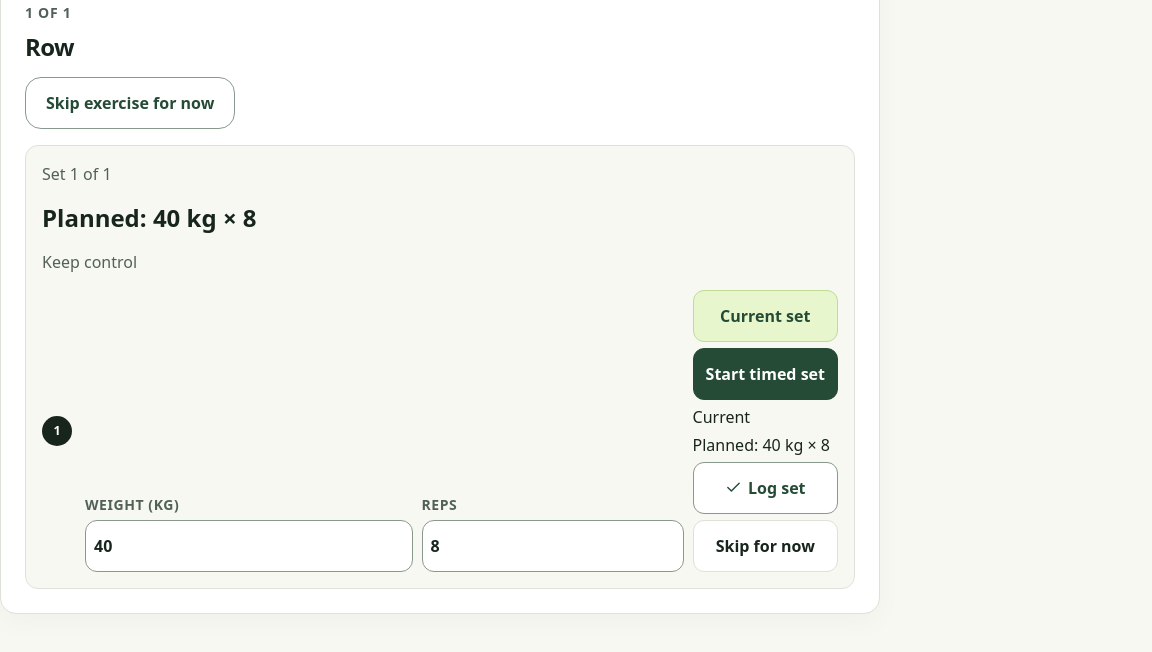
Complete ends timing without logging; confirmation edits and retry durably save once before rest
(page scrolled)
Replace the text in the number field named "Row set 1 weight (kg)" with "42.5". click: (249, 546)
box: [85,520,412,572]
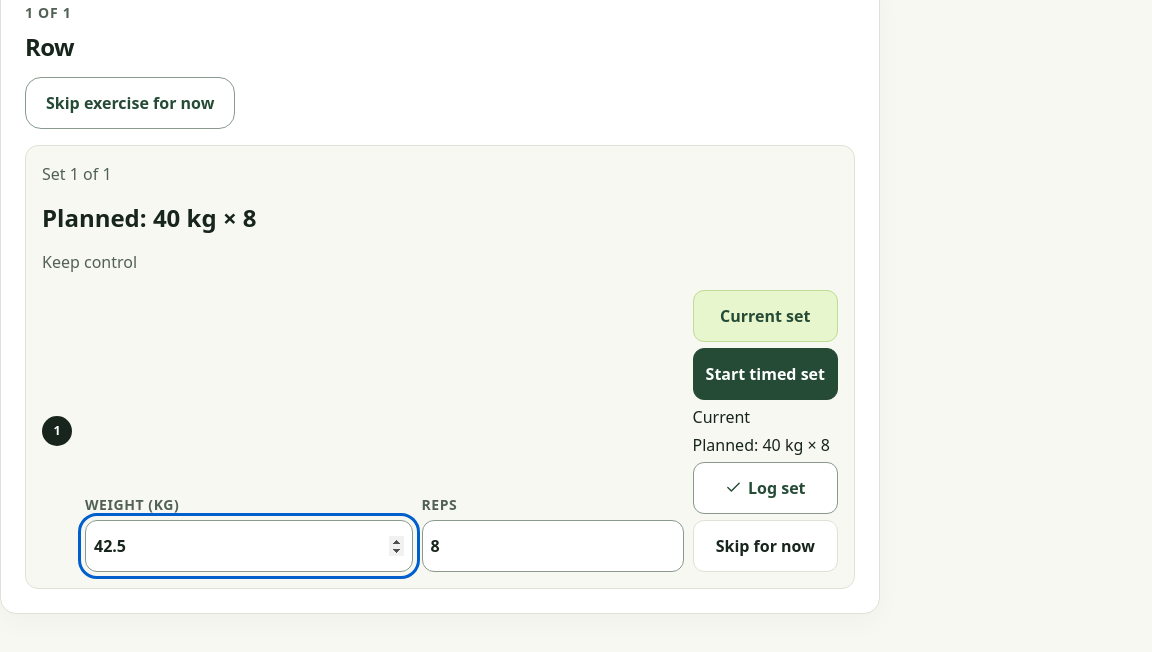
Click the button with aria-label "Start Row set 1". click: (765, 374)
box: [693,348,838,400]
(page scrolled)
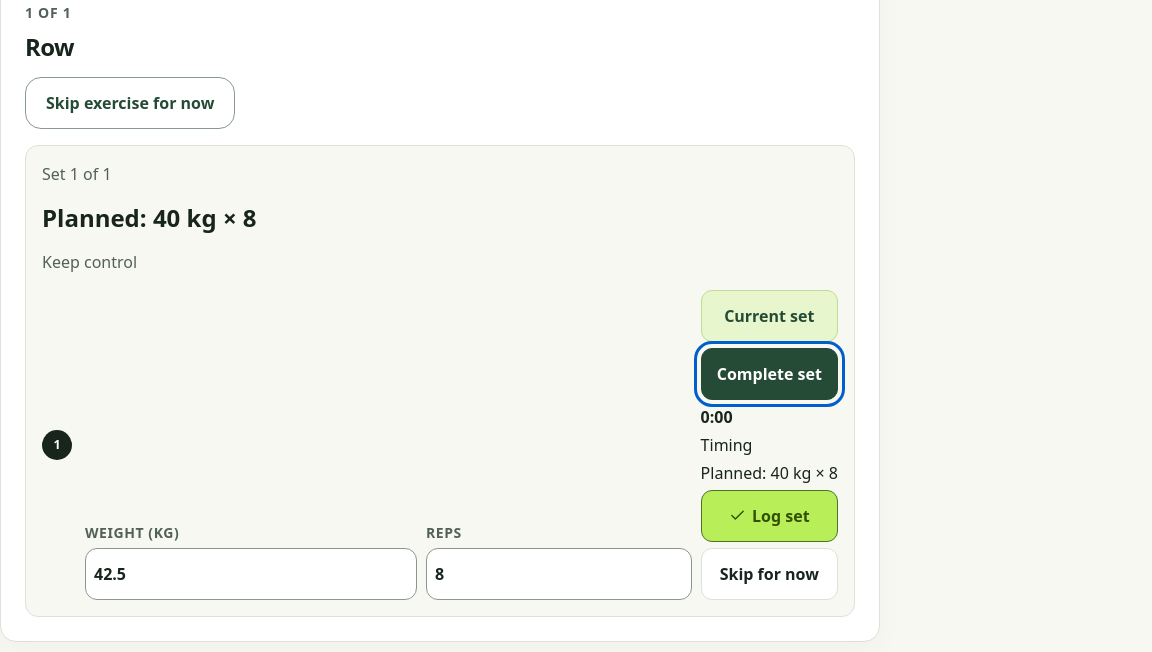
Click the button with aria-label "Complete Row set 1". click: (769, 374)
box: [701,348,838,400]
(page scrolled)
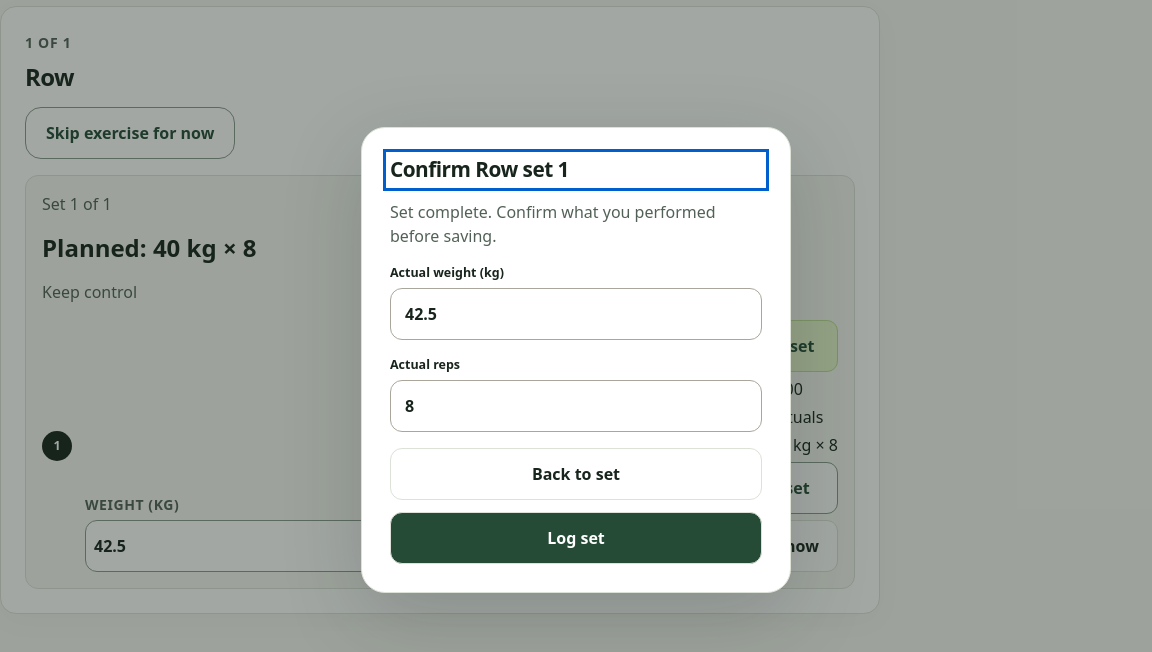
Check: the field labelled "Actual weight (kg)" holds "42.5", box [390,288,762,340]
Check: the text "Rest timer" is gone
Replace the text in the number field labelled "Actual reps" with "7". click: (576, 406)
box: [390,380,762,432]
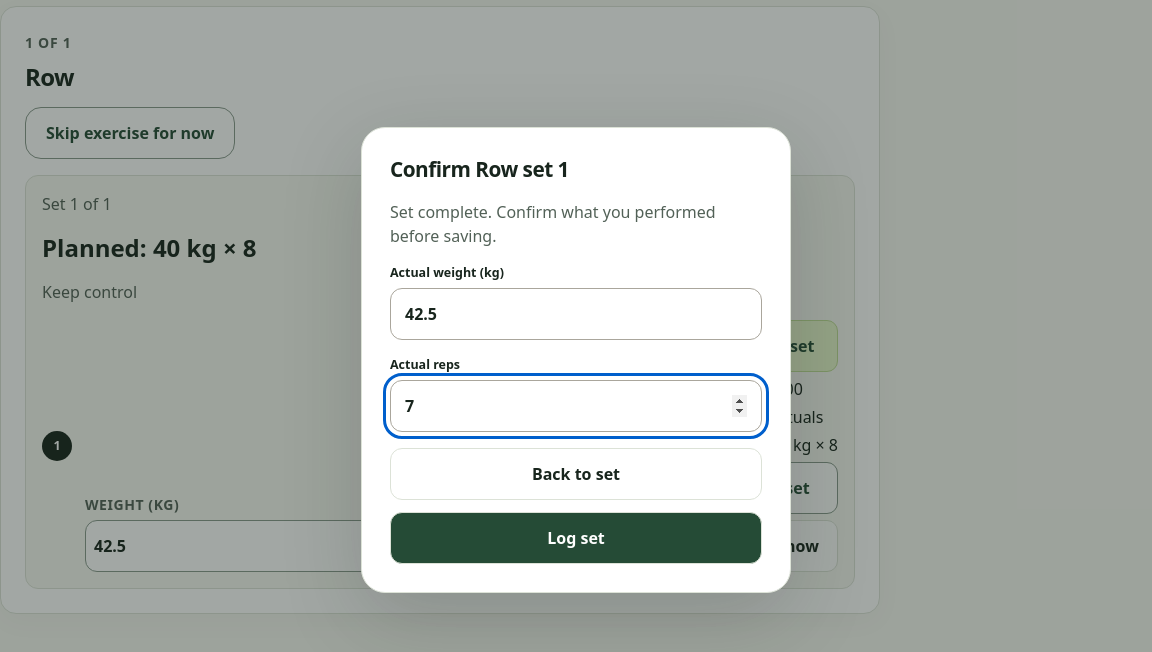
Click the button "Log set". click: (576, 538)
box: [390,512,762,564]
(page scrolled)
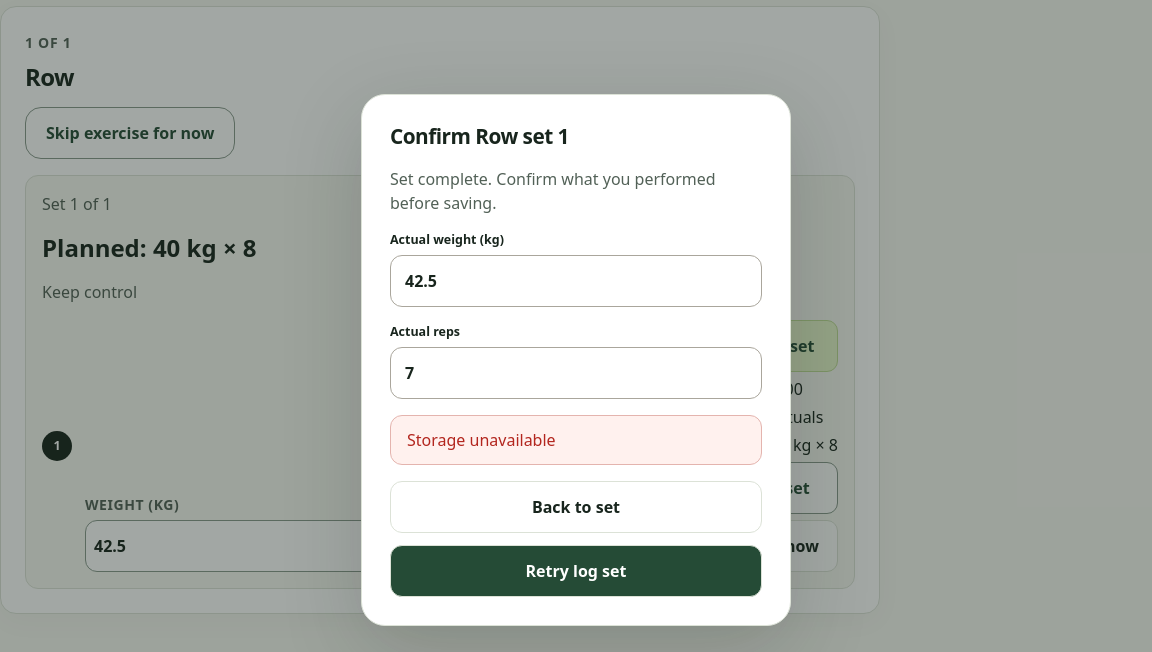
Check: the message reads "Storage unavailable", box [407,428,556,450]
Double-click the button "Retry log set" at (576, 570), box [390,544,762,596]
(page scrolled)
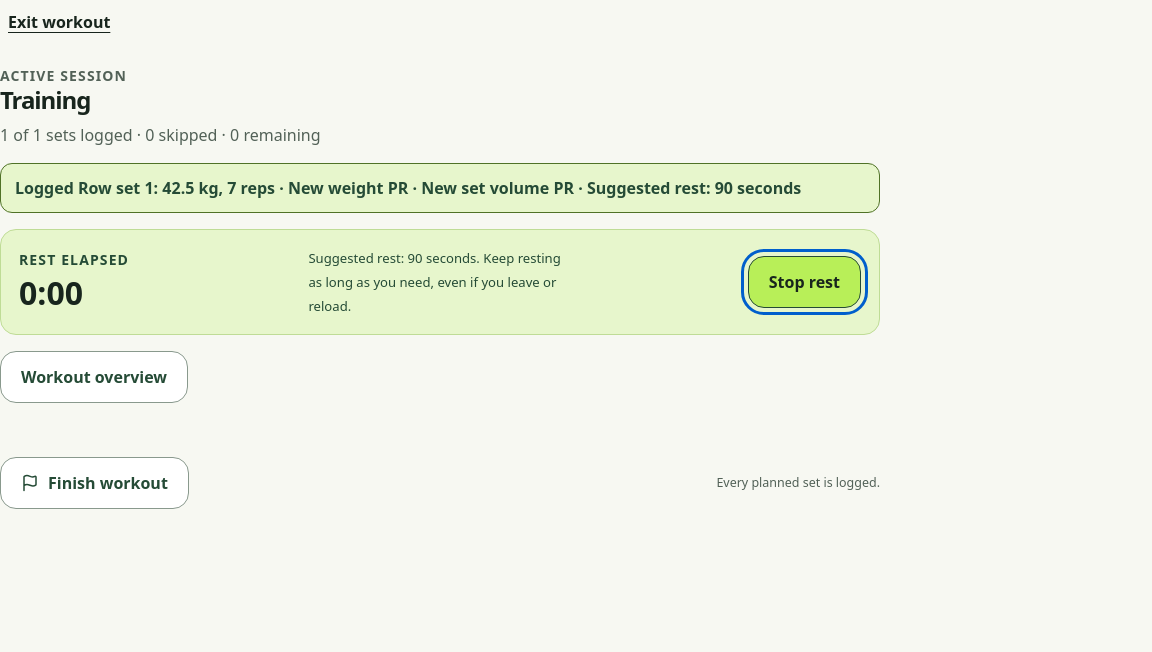
Check: the text named "Rest timer" is shown, box [19,271,83,314]
Check: the dialog is gone
